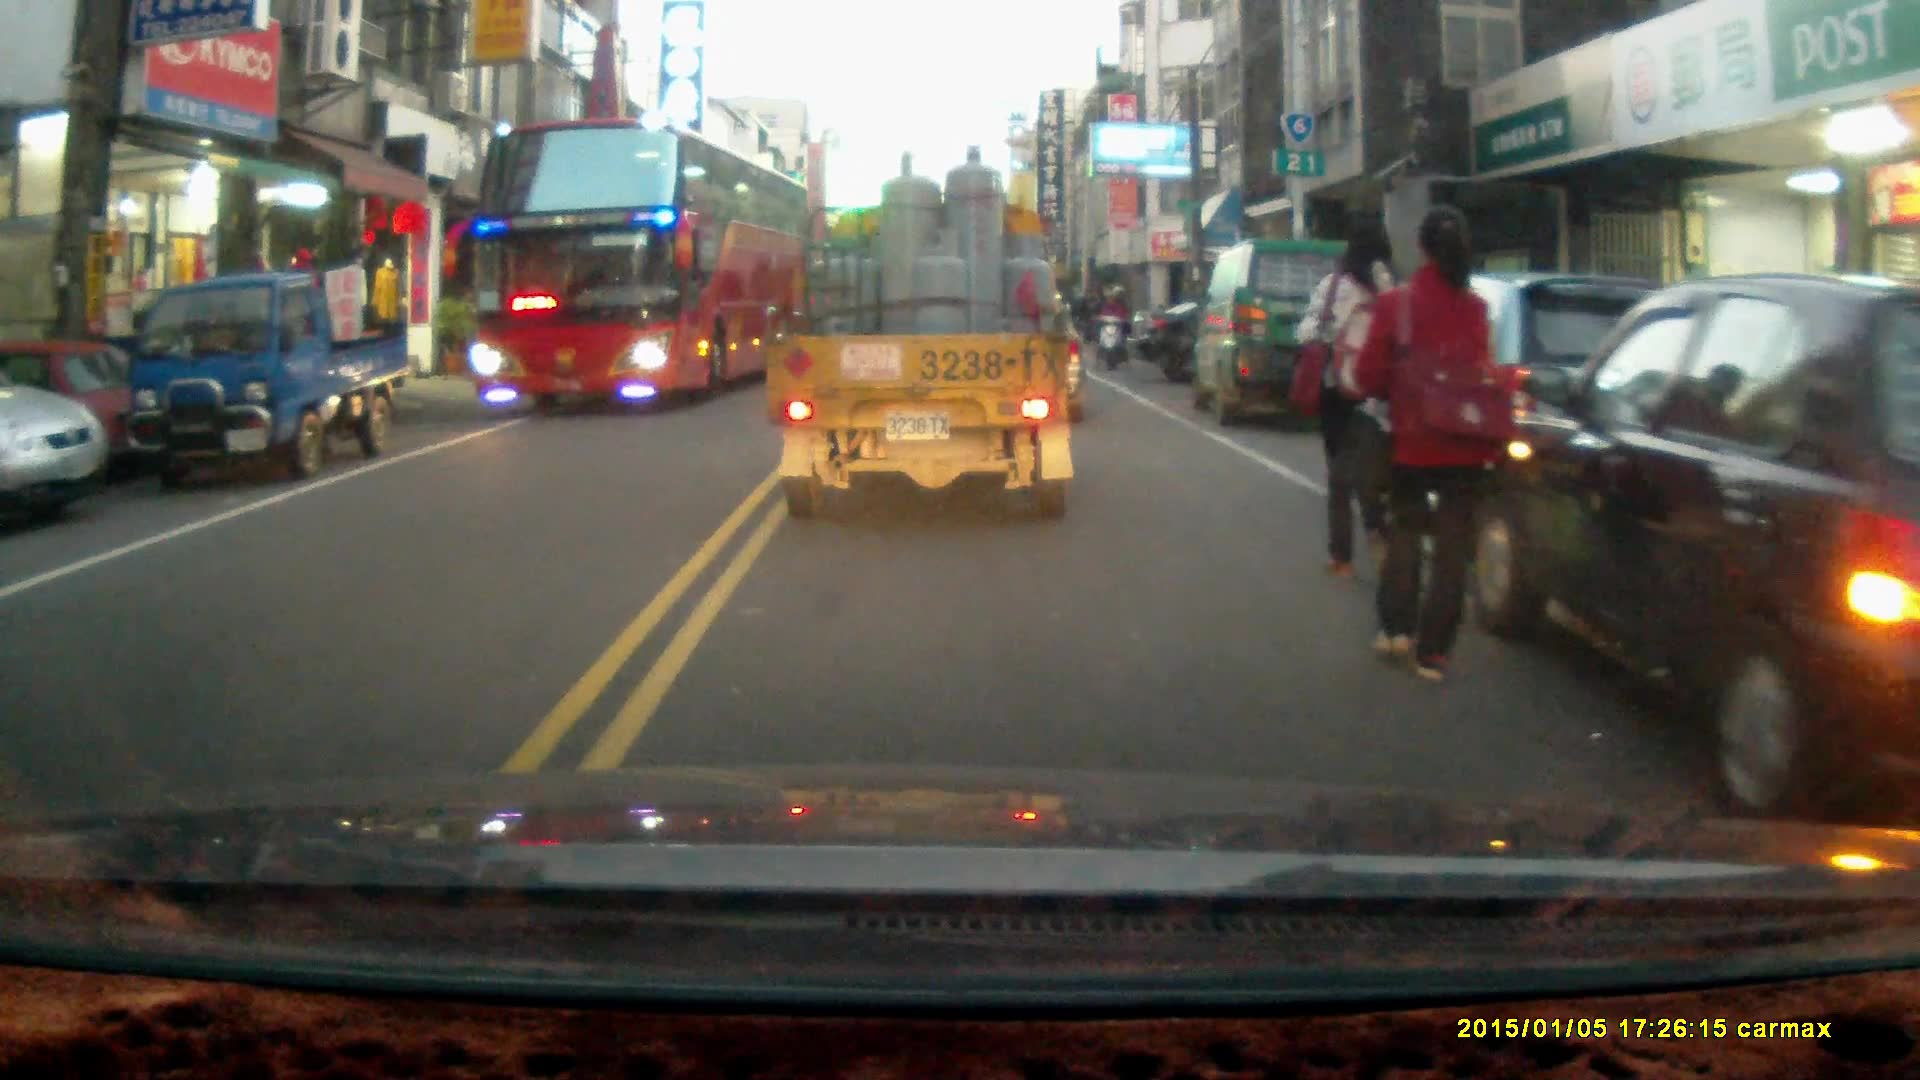pedestrian: (1350, 207, 1504, 688), (1303, 211, 1424, 594)
rider: (1093, 282, 1134, 370)
vehicle: (1464, 272, 1920, 809), (762, 143, 1083, 521), (463, 116, 812, 417), (121, 273, 409, 480), (1197, 235, 1382, 425), (1, 364, 109, 521)
